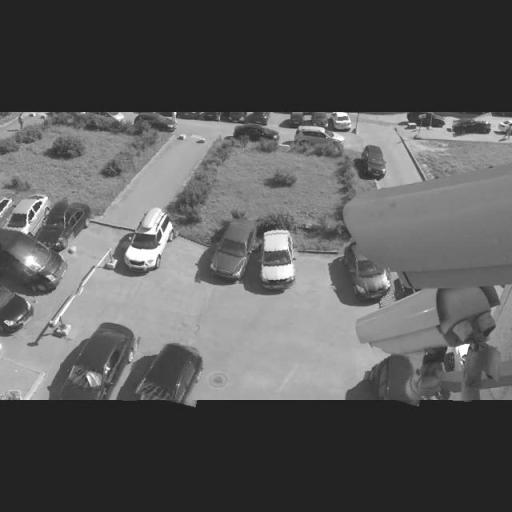busy: (0, 186, 79, 304), (60, 326, 140, 400), (128, 340, 206, 404), (112, 209, 172, 276), (201, 217, 260, 284), (246, 226, 302, 292), (420, 334, 476, 400), (362, 350, 428, 404), (339, 241, 392, 301), (0, 268, 34, 336), (358, 144, 389, 179), (451, 115, 495, 136), (328, 113, 358, 132), (497, 121, 512, 133)
free: (167, 234, 209, 282), (296, 264, 336, 294)
